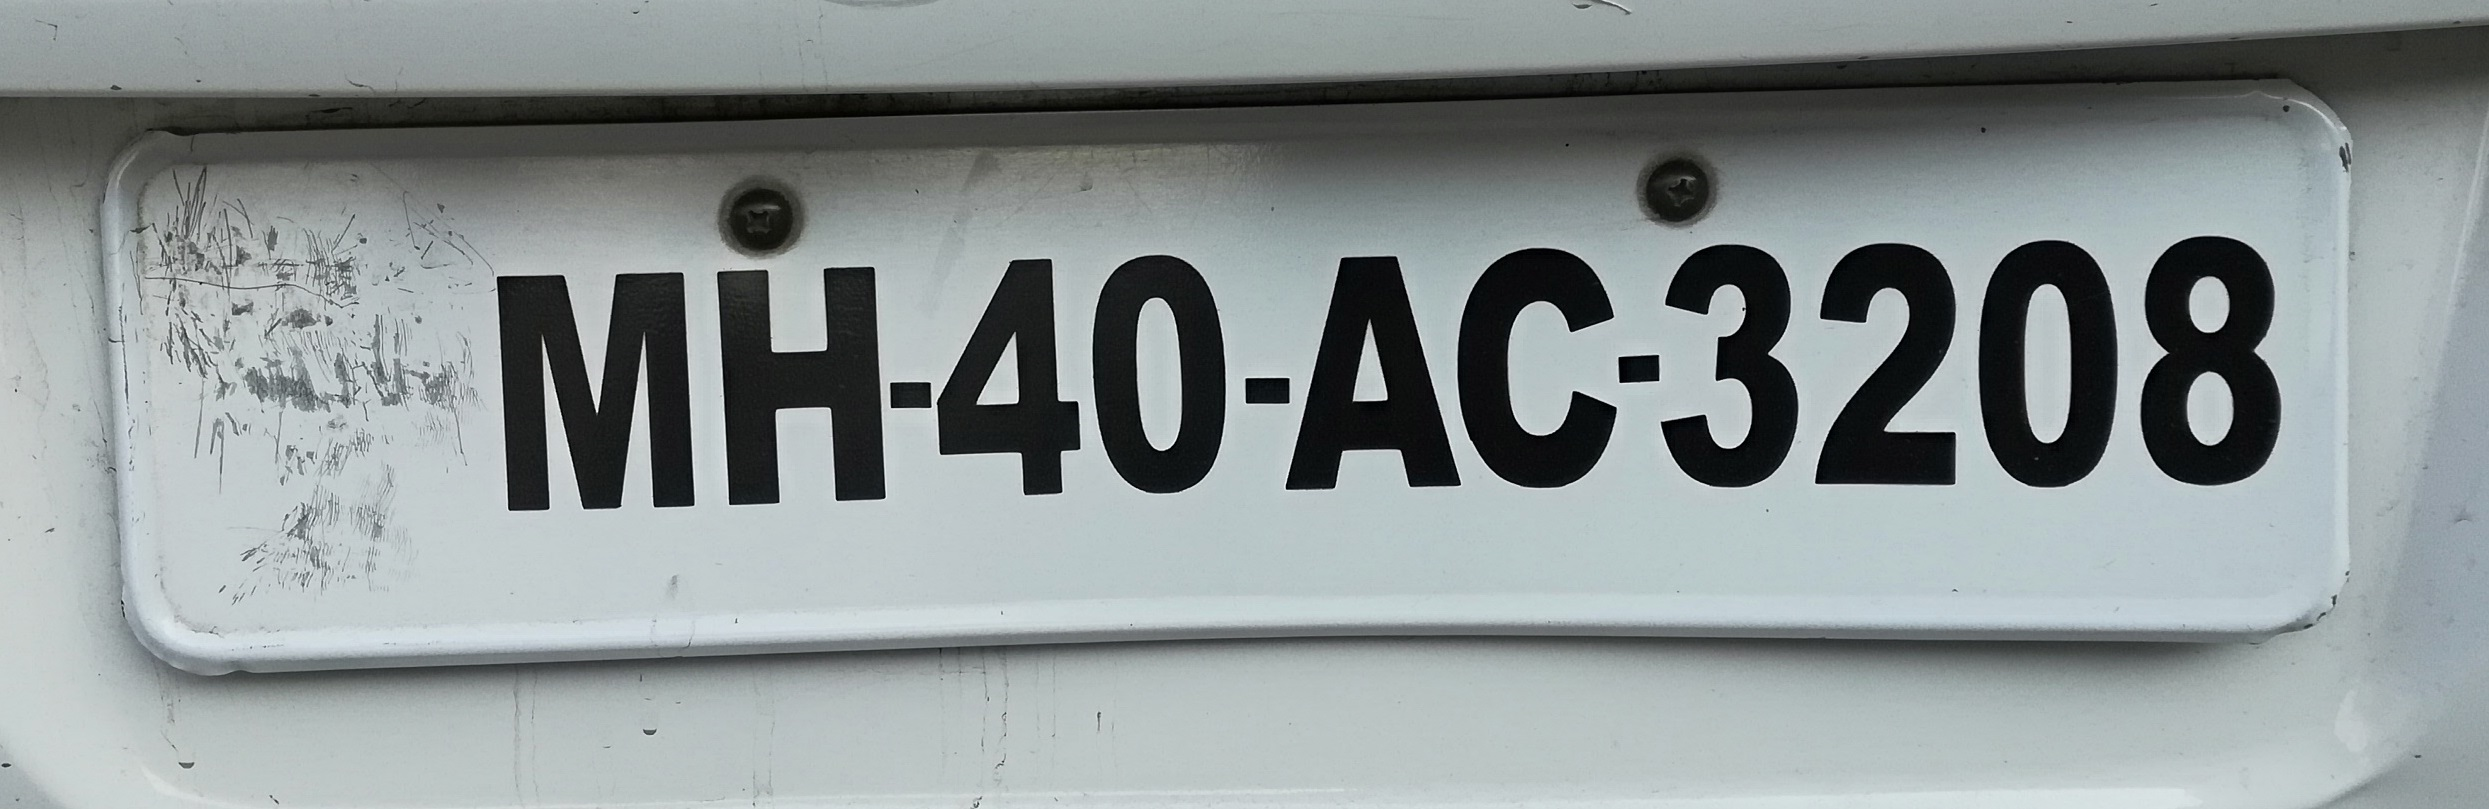numberplate: (108, 79, 2358, 690)
